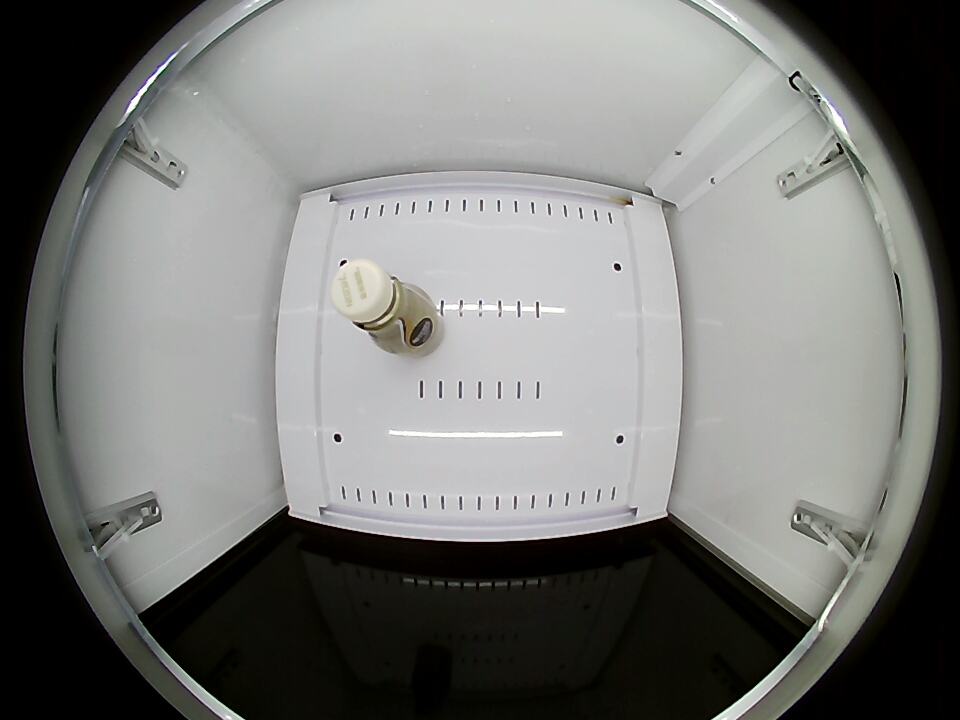kafei: (333, 258, 429, 349)
